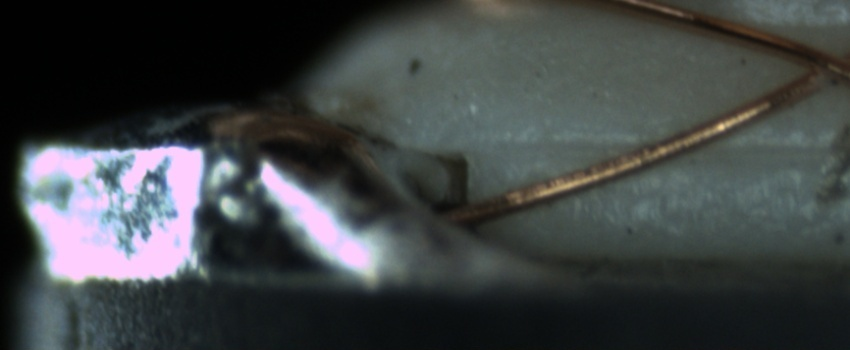CL: (779, 40, 847, 100)
DL: (492, 114, 842, 176)
